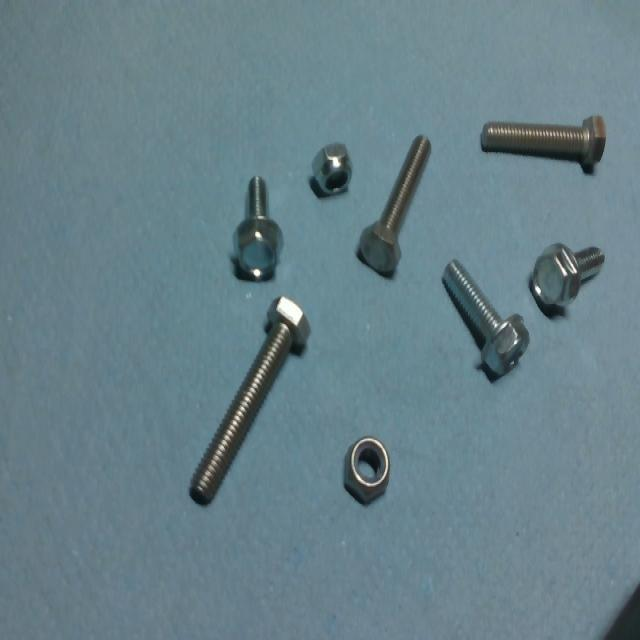Bolt: (186, 288, 310, 516), (350, 134, 433, 288), (439, 252, 532, 376), (478, 106, 608, 176), (530, 233, 607, 325), (234, 172, 286, 288)
Nut: (337, 430, 401, 508), (303, 138, 358, 198)
